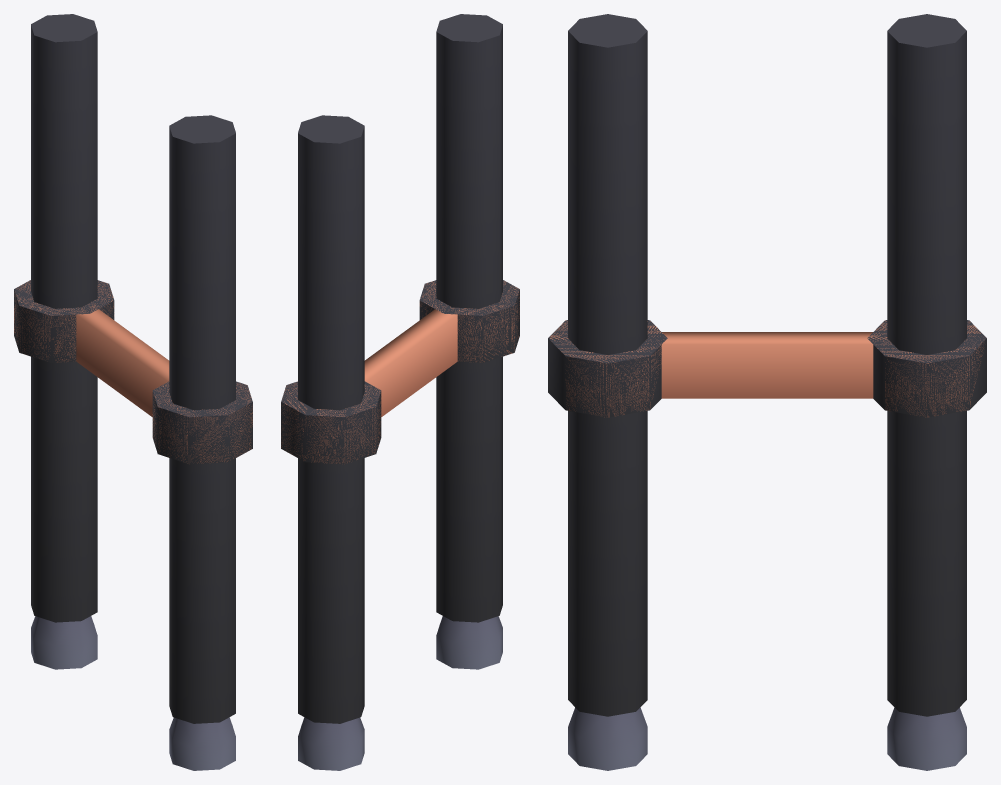
Rendered from structure-tall.obj.
3 renders of one model, left to right at view 1: azimuth 30°, elevation 25°; view 2: azimuth 150°, elevation 25°; view 3: azimuth 270°, elevation 25°, orthographic. The views are drawn at different scales.
Visible parts, largest first — view 1: structure-tall; view 2: structure-tall; view 3: structure-tall.
Boxes of the visible parts, x1=… form: structure-tall: x1=14, y1=14, x2=252, y2=770; structure-tall: x1=281, y1=14, x2=519, y2=770; structure-tall: x1=548, y1=14, x2=986, y2=770.
Bounding box in the file's own units: 0.3 × 2 × 1.1.
